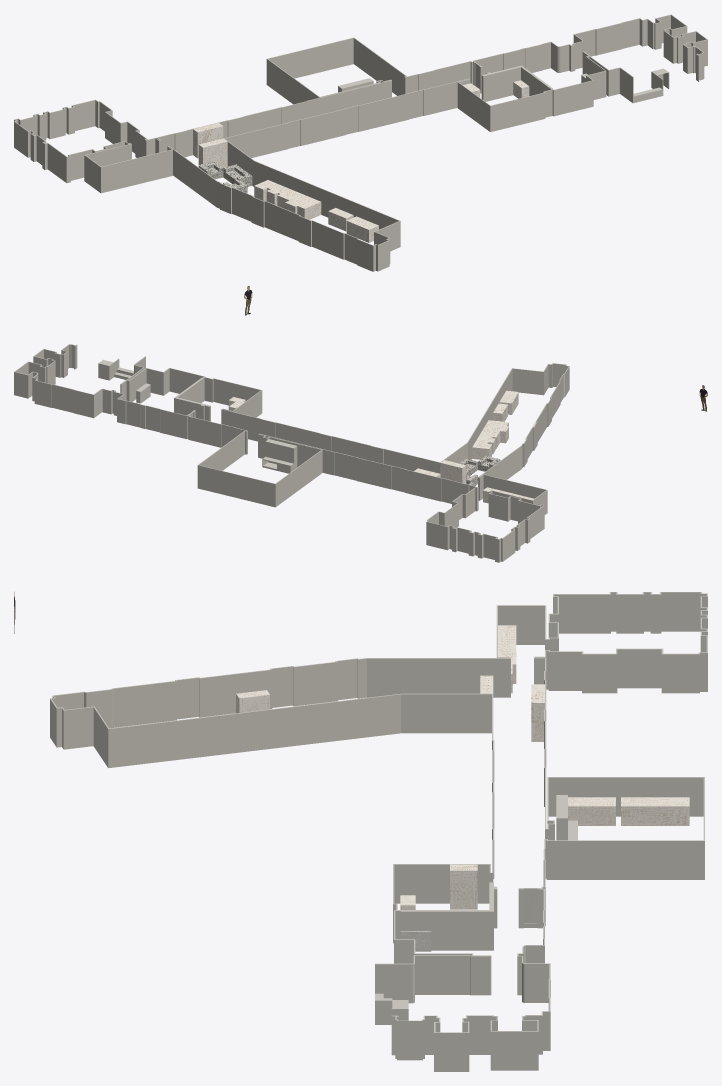
The model's file is roblab_new.dae.
3 views of the same model, one above another, from view 1: azimuth 30°, elevation 25°; view 2: azimuth 150°, elevation 25°; view 3: azimuth 270°, elevation 25° (orthographic). The views are drawn at different scales.
Parts seen in each view (by area): view 1: Component (×6); view 2: Component (×5); view 3: Component (×7).
Part boxes in pixels (x1,y1,x2,y2): Component (×6): (14, 14, 707, 271); Component (×5): (14, 344, 569, 562); Component (×7): (50, 592, 707, 1071).
Size of the model in its own units: 1526 by 1015 by 69.5.
